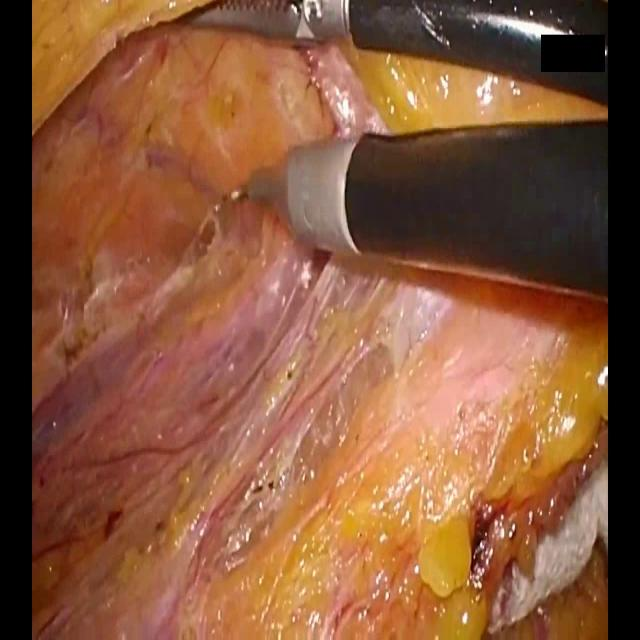surgical-area: (32, 0, 610, 639)
surgical-tool: (226, 116, 610, 300), (176, 0, 608, 106)
